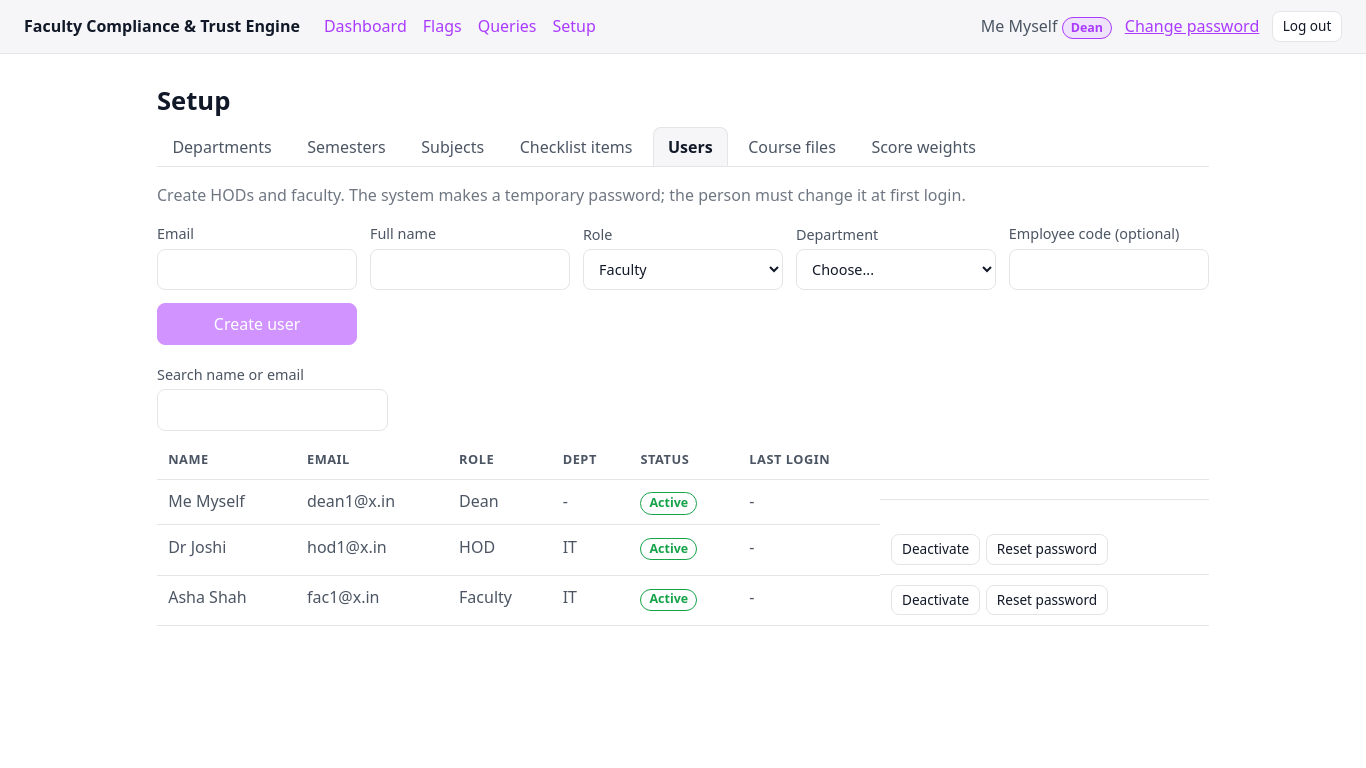
Test case: users › shows the temporary password once, then it is gone
The image size is (1366, 768).
Check: the text "Asha Shah" is shown, box [157,575,296,626]
Type " Ravi@X.in " into the field labelled "Email" at (257, 269), box [157,249,357,290]
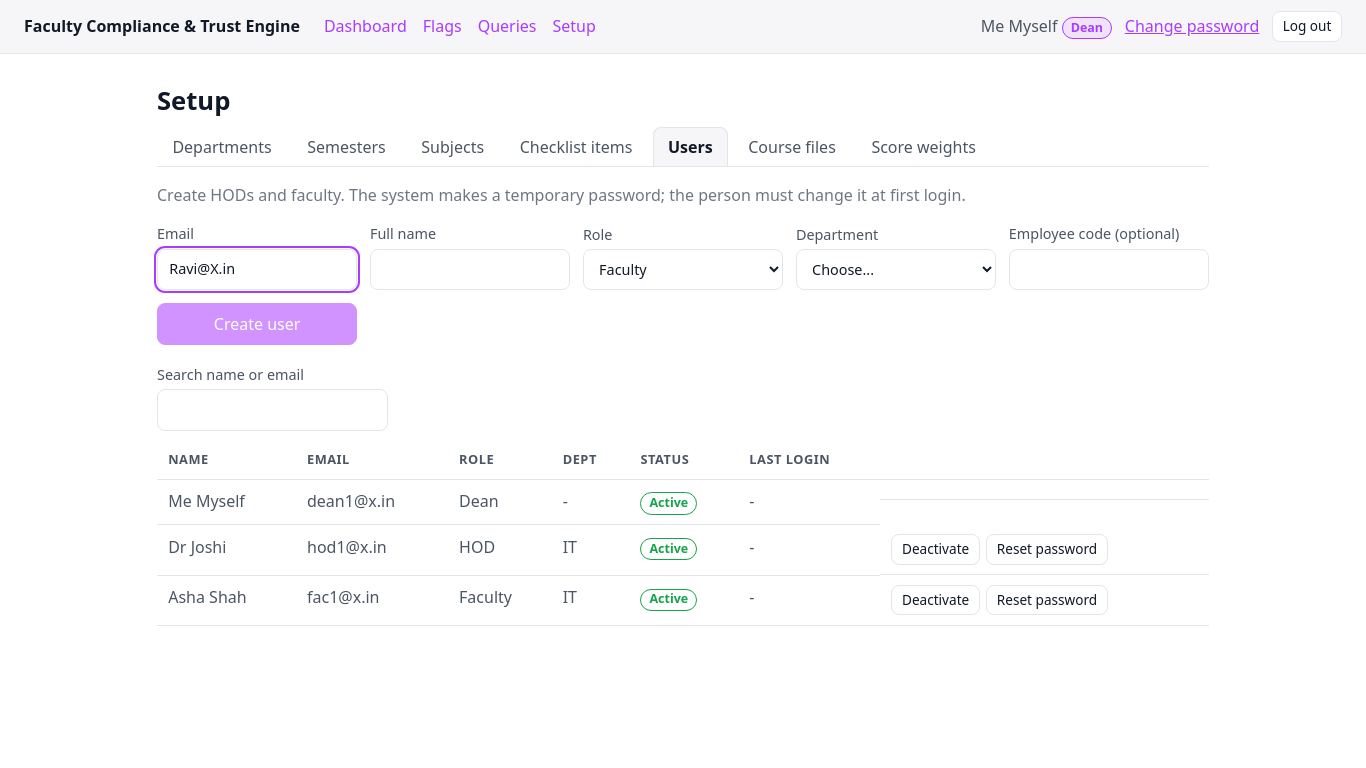
Type "Ravi" into the field labelled "Full name" at (470, 269), box [370,249,570,290]
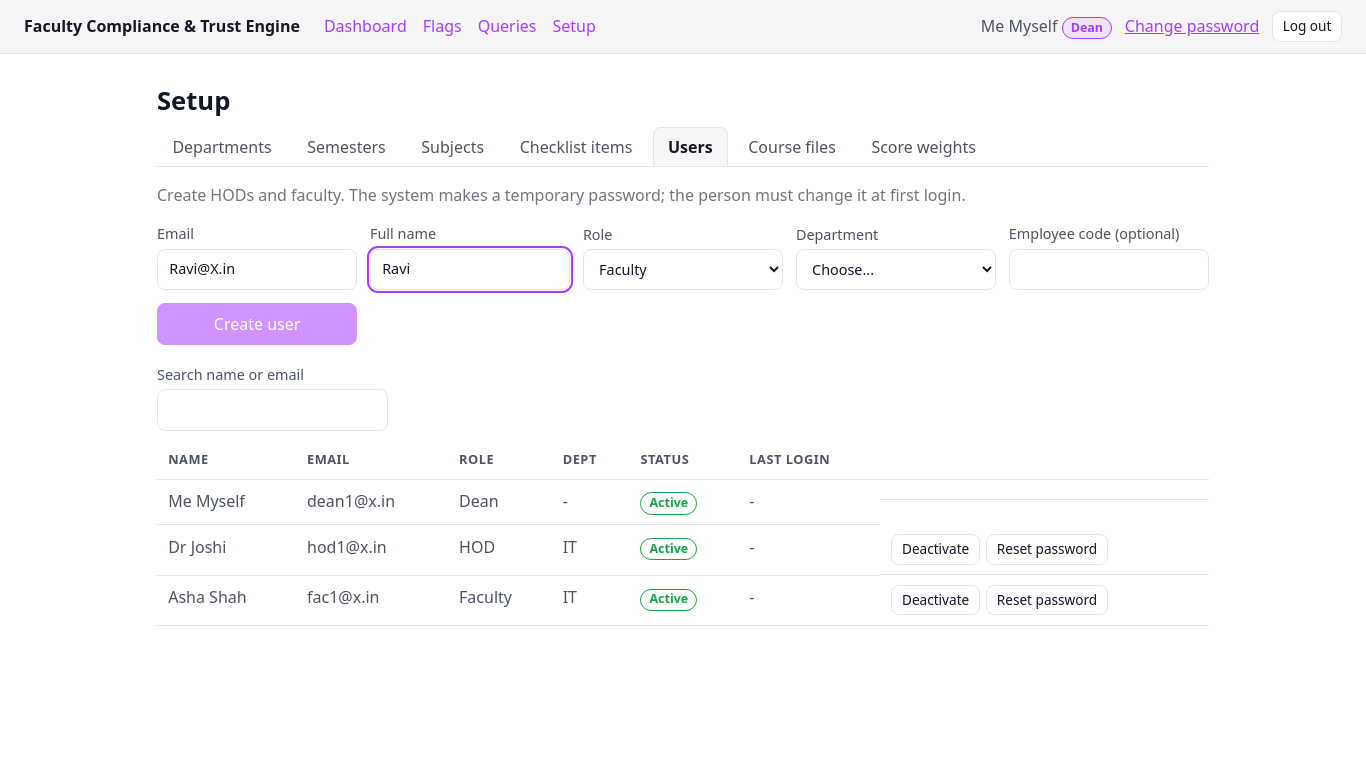
Select "CS" in the dropdown labelled "Department" at (896, 270), box [796,249,996,290]
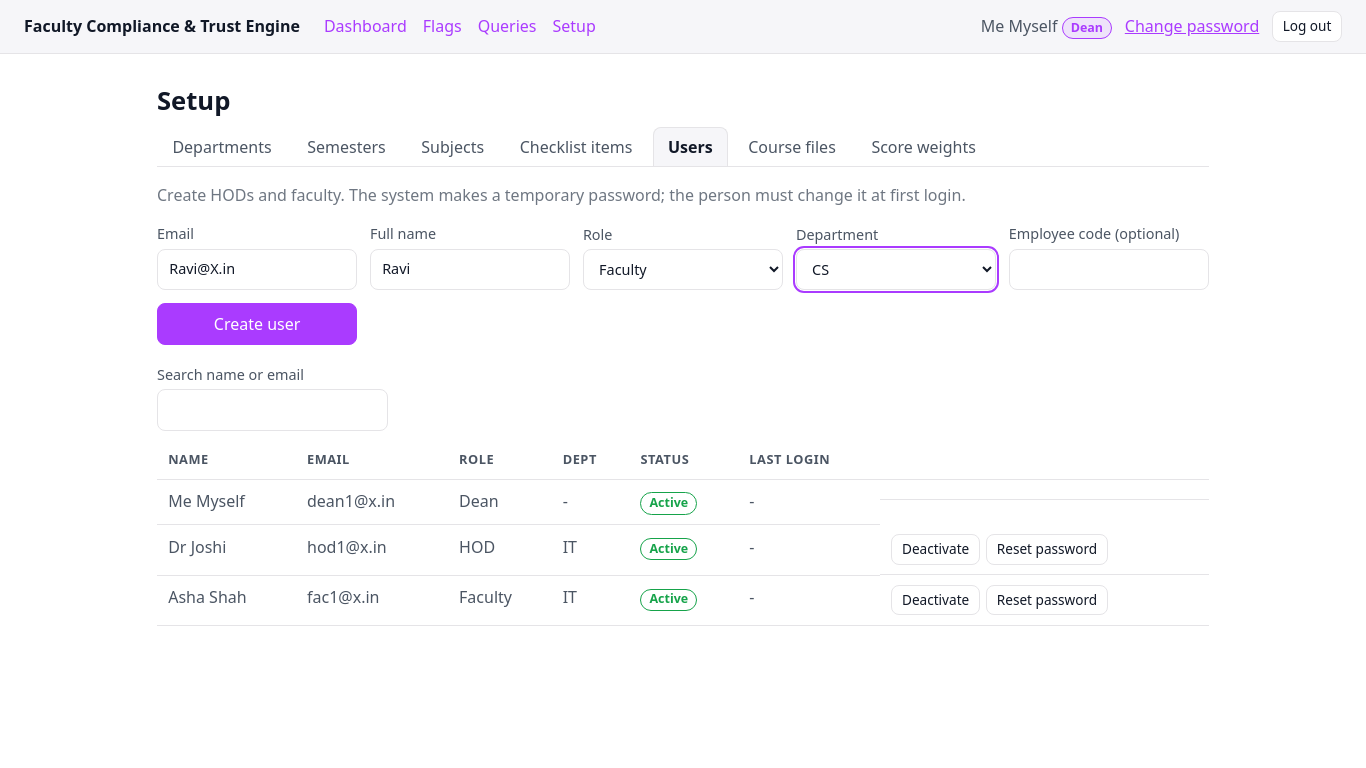
Click the button "Create user" at (257, 324), box [157,303,357,345]
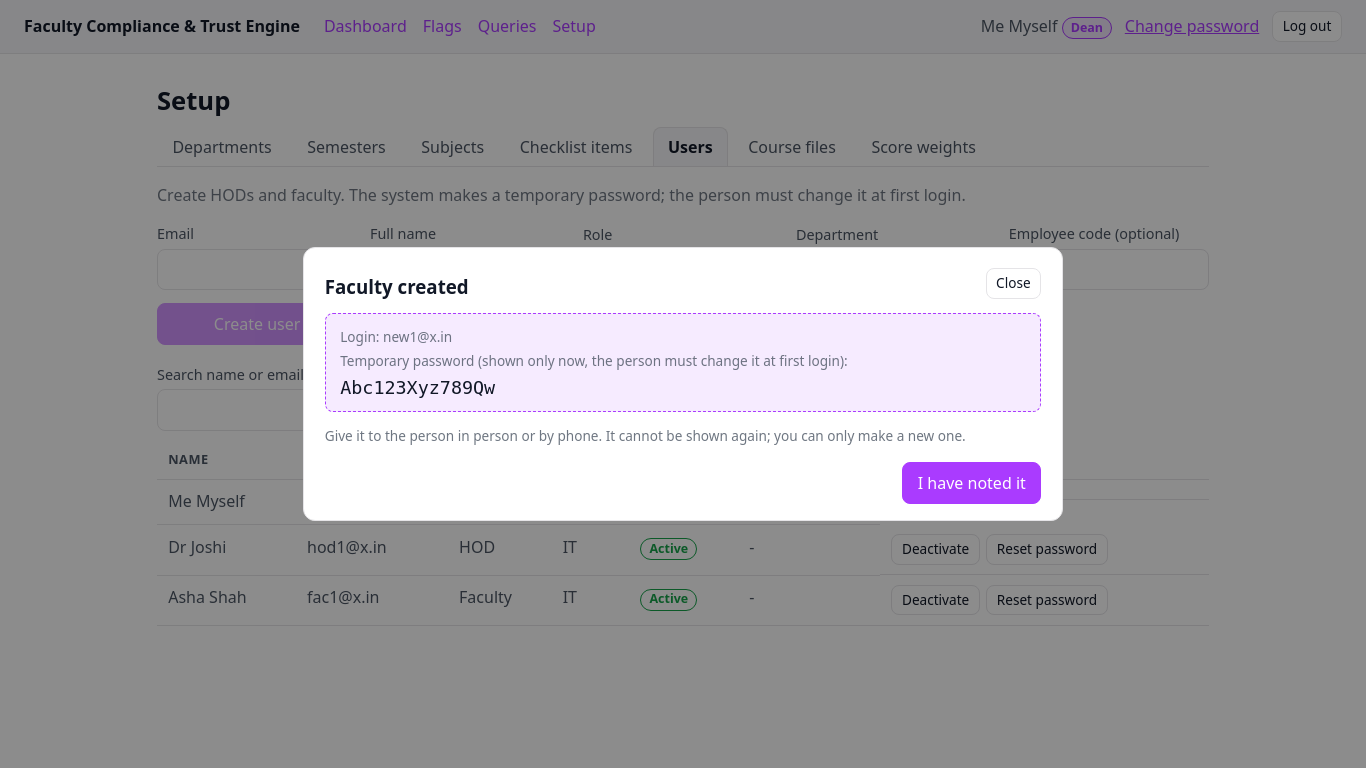
Check: the text "Abc123Xyz789Qw" is shown, box [340,377,495,398]
Click the button "I have noted it" at (972, 484), box [902,462,1041,504]
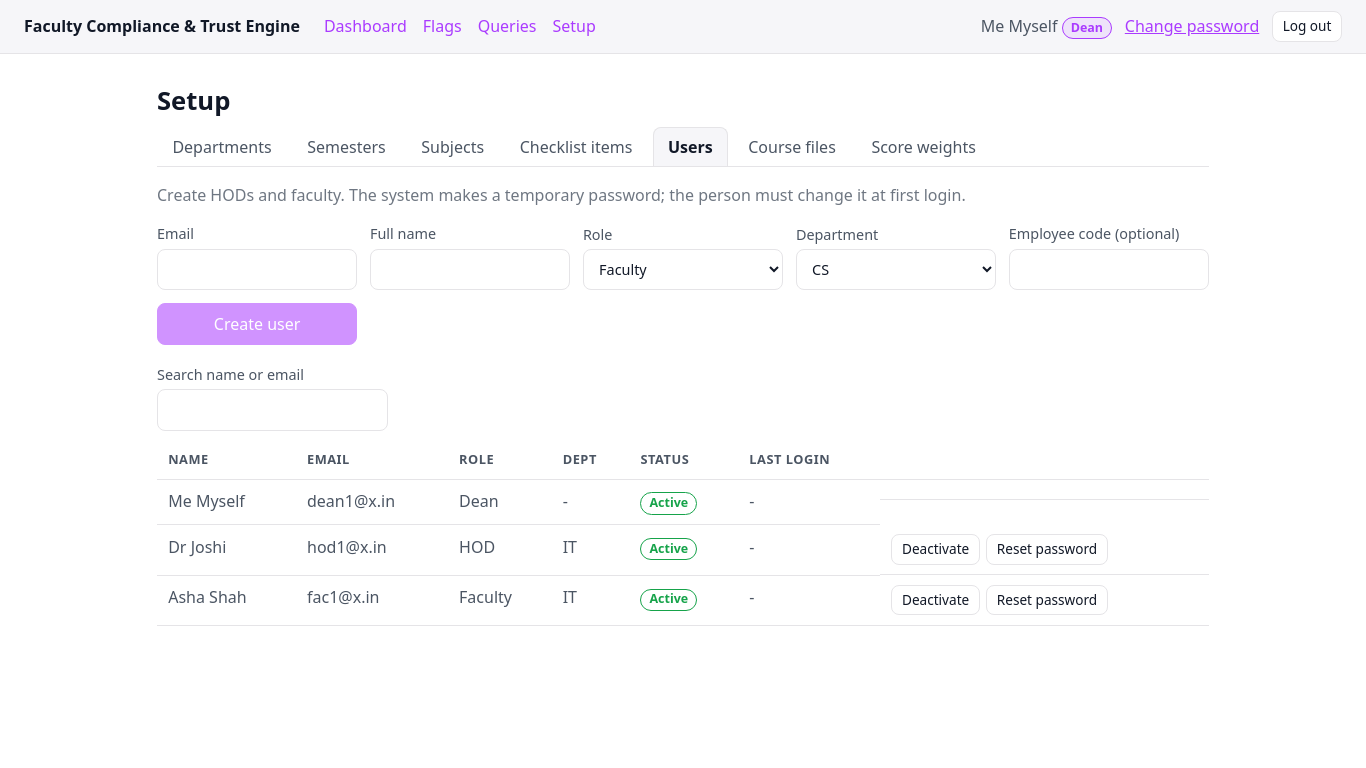
Check: the text "Abc123Xyz789Qw" is gone
